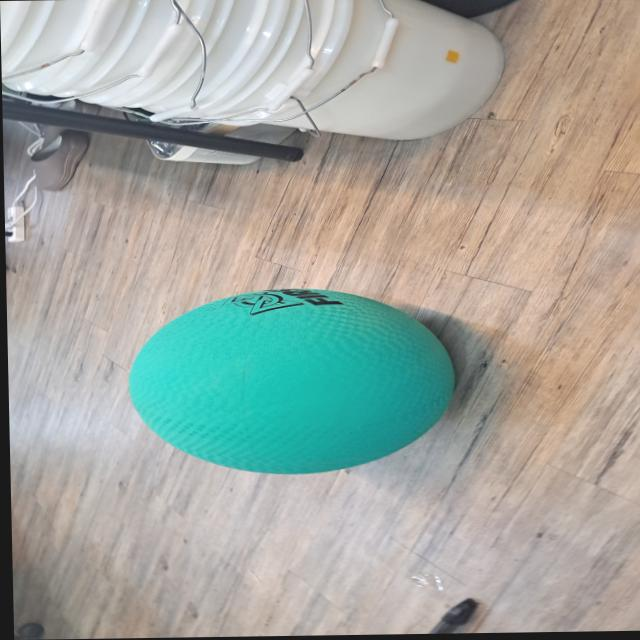ALGAE: (122, 283, 460, 478)
